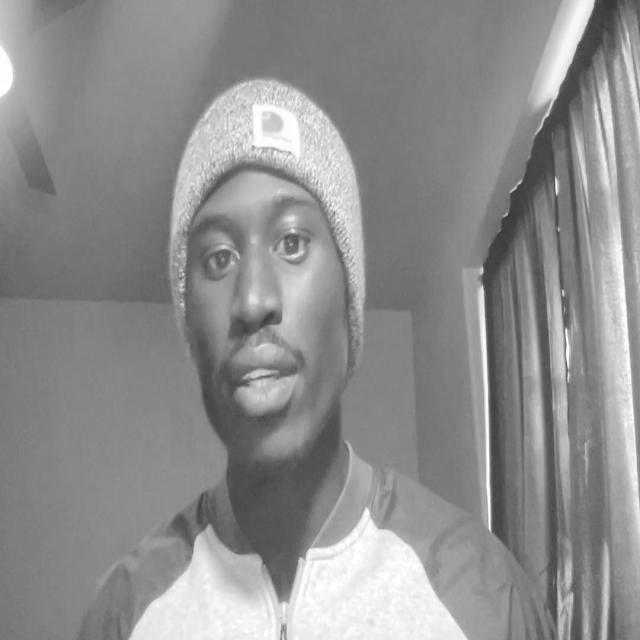real: (185, 196, 350, 468)
